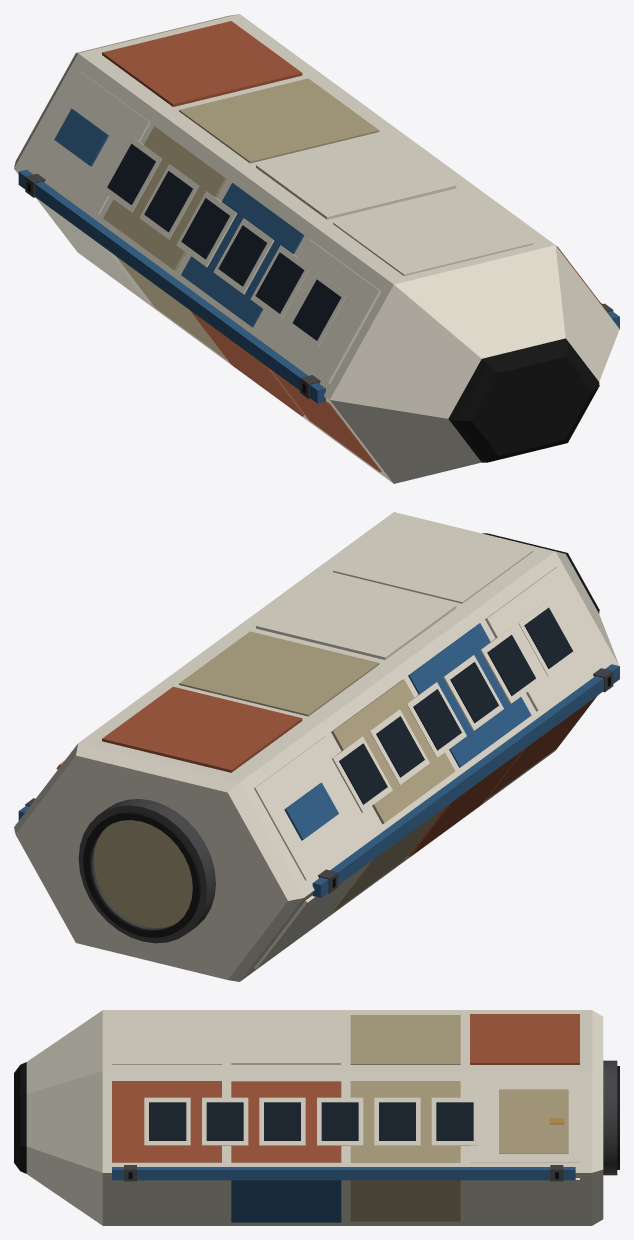
The model's file is boat20_hull.obj.
3 renders of one model, top to bottom at view 1: azimuth 30°, elevation 25°; view 2: azimuth 150°, elevation 25°; view 3: azimuth 270°, elevation 25°, orthographic. The views are drawn at different scales.
Visible parts, largest first — view 1: boat20_hull; view 2: boat20_hull; view 3: boat20_hull.
Boxes of the visible parts, bbox=[...] form: boat20_hull: bbox=[14, 14, 619, 483]; boat20_hull: bbox=[14, 512, 619, 981]; boat20_hull: bbox=[14, 1010, 619, 1225].
Bounding box in the file's own units: 2.95 × 1.89 × 6.54.
